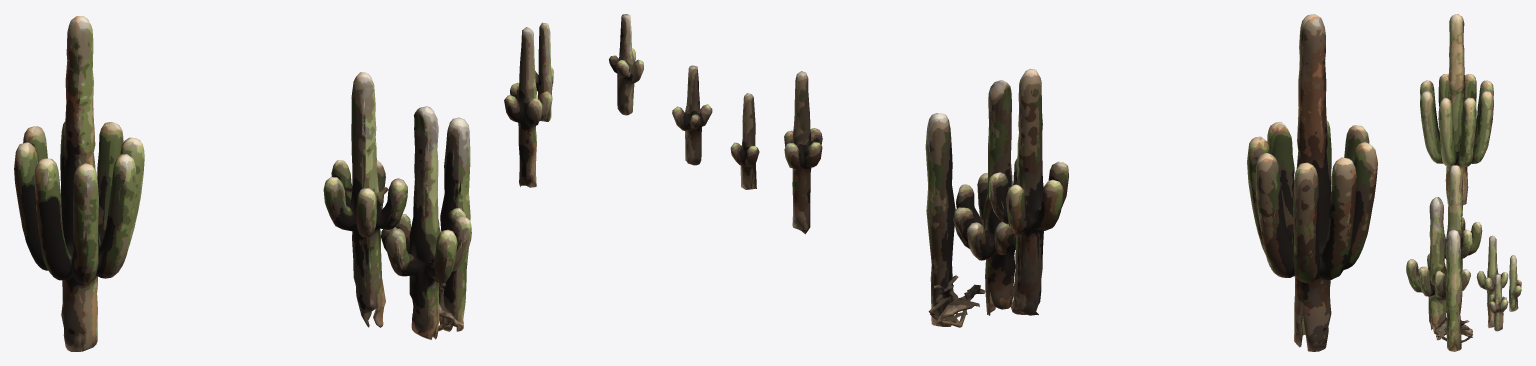
The model's file is CactusGroup.fbx.
3 renders of one model, left to right at view 1: azimuth 30°, elevation 25°; view 2: azimuth 150°, elevation 25°; view 3: azimuth 270°, elevation 25°, orthographic. The views are drawn at different scales.
Parts seen in each view (by area): view 1: CactusGroup; view 2: CactusGroup; view 3: CactusGroup.
Boxes of the visible parts, bbox=[...] form: CactusGroup: bbox=[14, 14, 643, 351]; CactusGroup: bbox=[672, 14, 1377, 351]; CactusGroup: bbox=[1406, 14, 1521, 351].
Bounding box in the file's own units: 6 × 3.54 × 1.61.
1 material, 1 textured.
